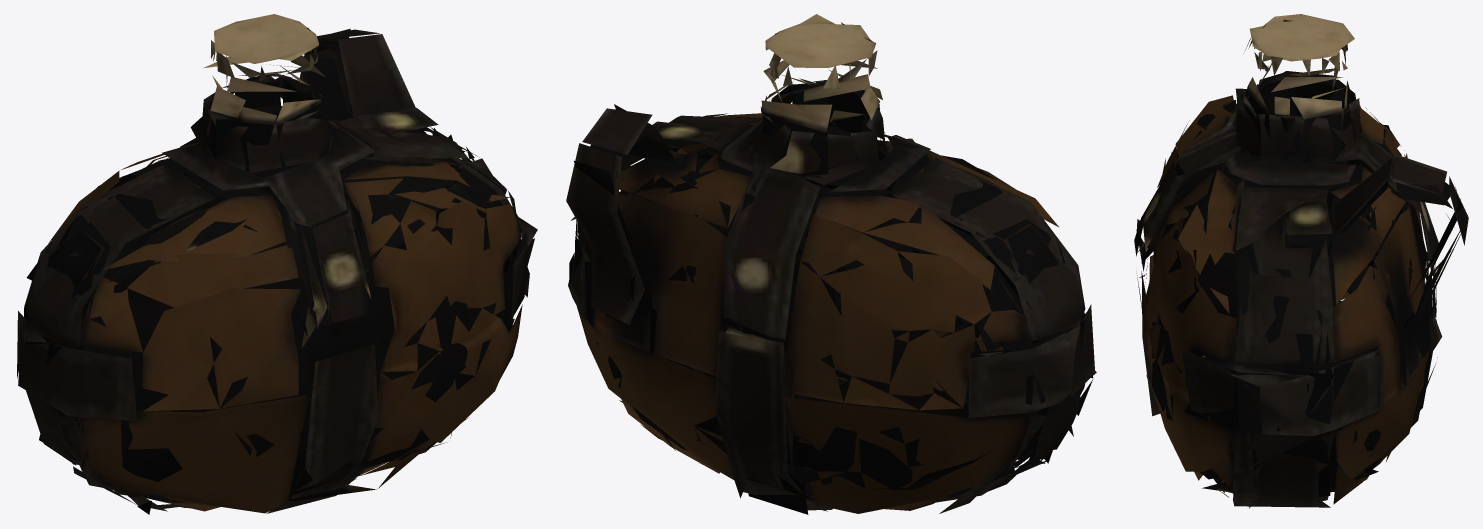
File: pro_fuel_flask.glb
3 views of the same model, side by side, from view 1: azimuth 30°, elevation 25°; view 2: azimuth 150°, elevation 25°; view 3: azimuth 270°, elevation 25° (orthographic). The views are drawn at different scales.
Visible parts, largest first — view 1: MetricPlacement; view 2: MetricPlacement; view 3: MetricPlacement.
Part boxes in pixels (x1,y1,x2,y2): MetricPlacement: (17,14,537,514); MetricPlacement: (566,14,1096,514); MetricPlacement: (1134,14,1468,508).
Size of the model in its own units: 0.26 by 0.22 by 0.1583.
1 material, 1 textured.
